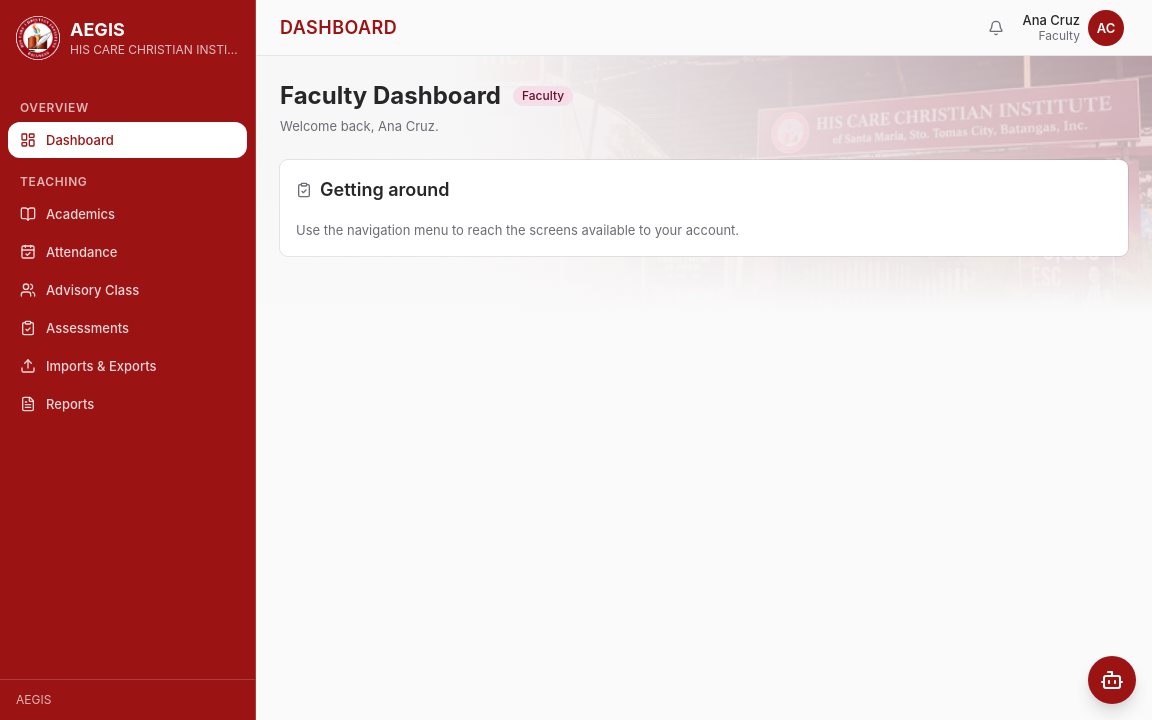
Test: floating assistant › opens from the floating button
Click the button named "Open assistant" at (1112, 680), box [1088,656,1136,704]
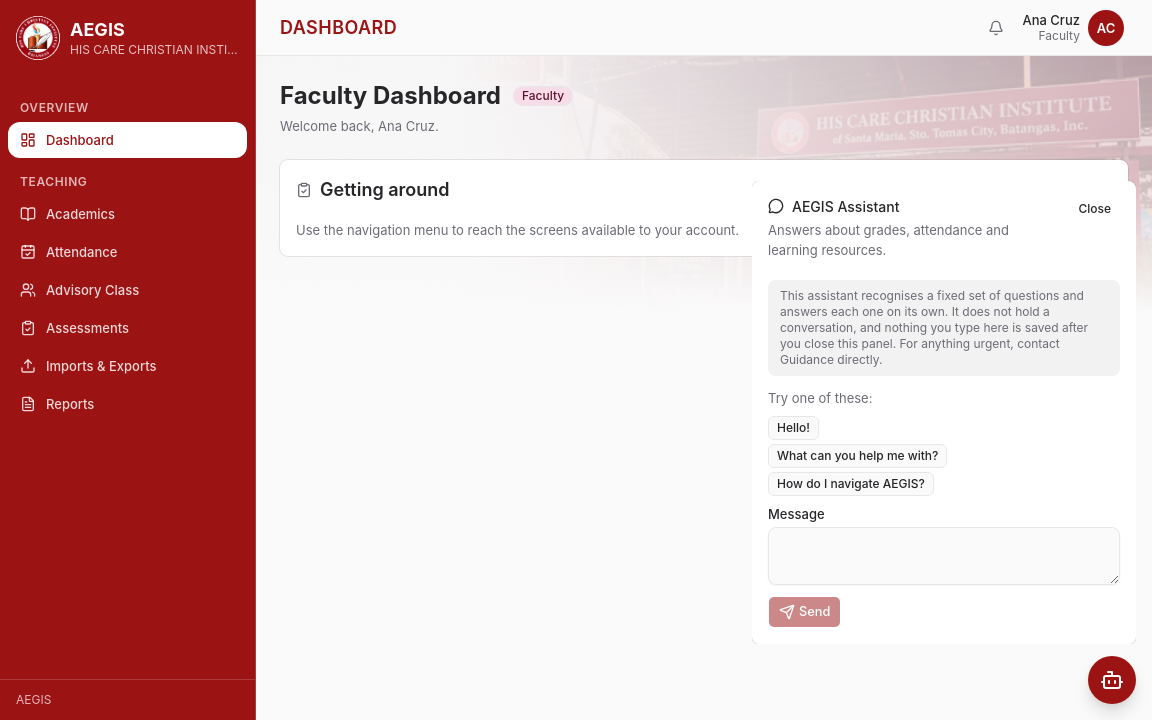
Expected: the element named "Assistant conversation" is shown, [768,390,947,496]
